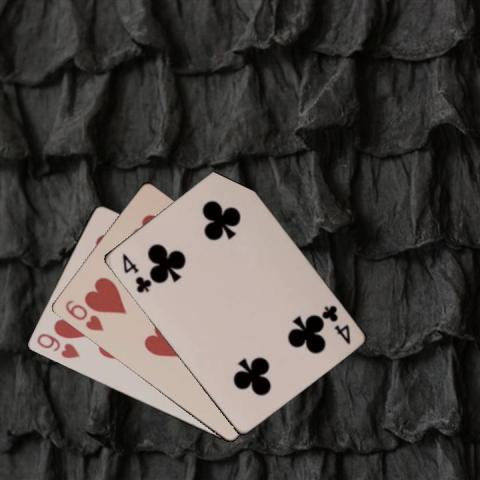4c: (318, 302, 352, 346), (119, 250, 152, 295)
6h: (61, 296, 105, 332)
9h: (33, 330, 81, 361)
